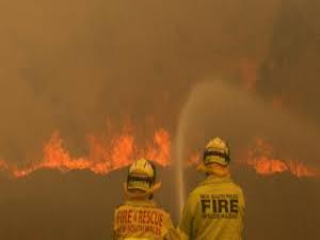fire: (16, 120, 175, 175), (242, 144, 309, 180)
